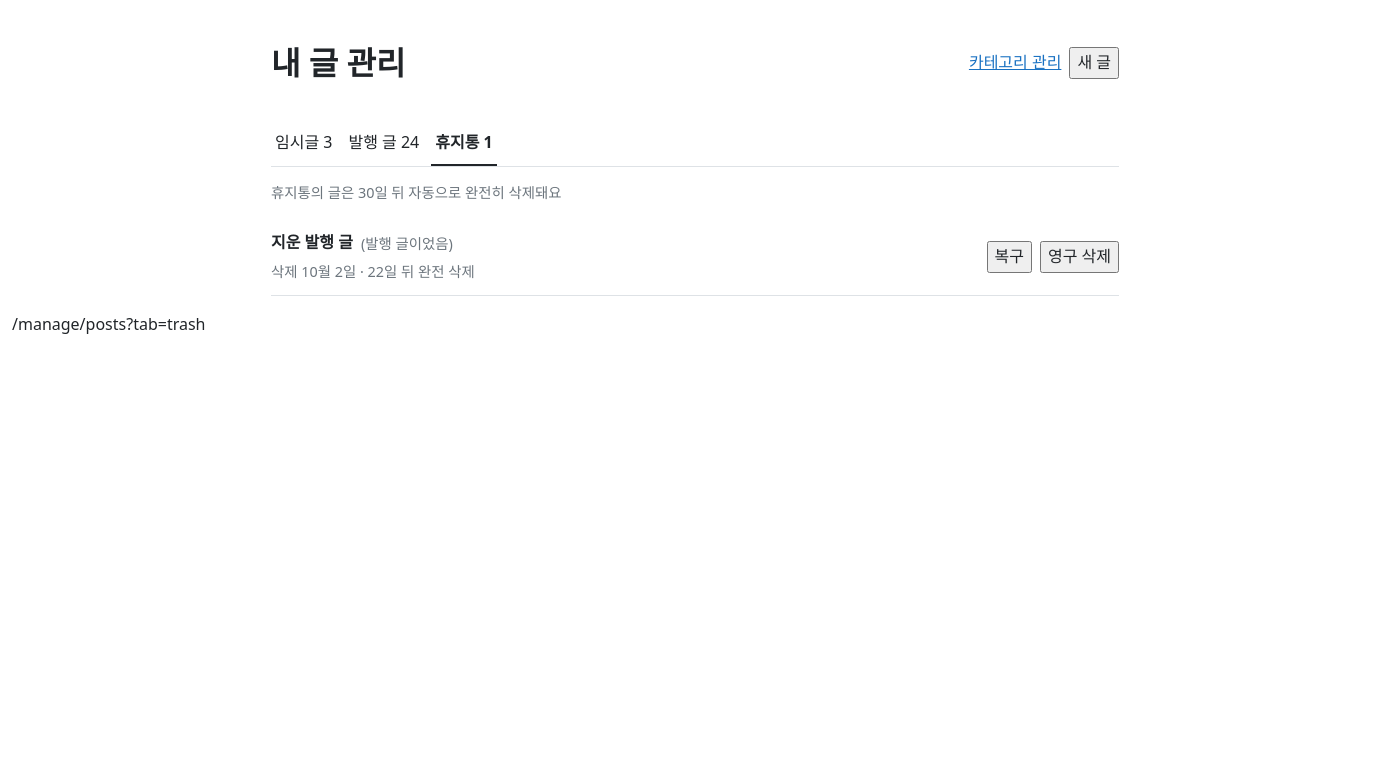
Scenario: ManagePostsPage › 휴지통 탭: 안내 문구, [복구]는 확인창 없이 "복구했어요 [발행 글 탭에서 보기]"
Expected: the text "지운 발행 글" is shown, 271,230 -> 353,256
Expected: the text "휴지통의 글은 30일 뒤 자동으로 완전히 삭제돼요" is shown, 271,183 -> 562,202
What coordinates should you click on to do the following:
click the button "복구"
I would click on:
 (1009, 257)
Its box is 986,241 -> 1032,273.
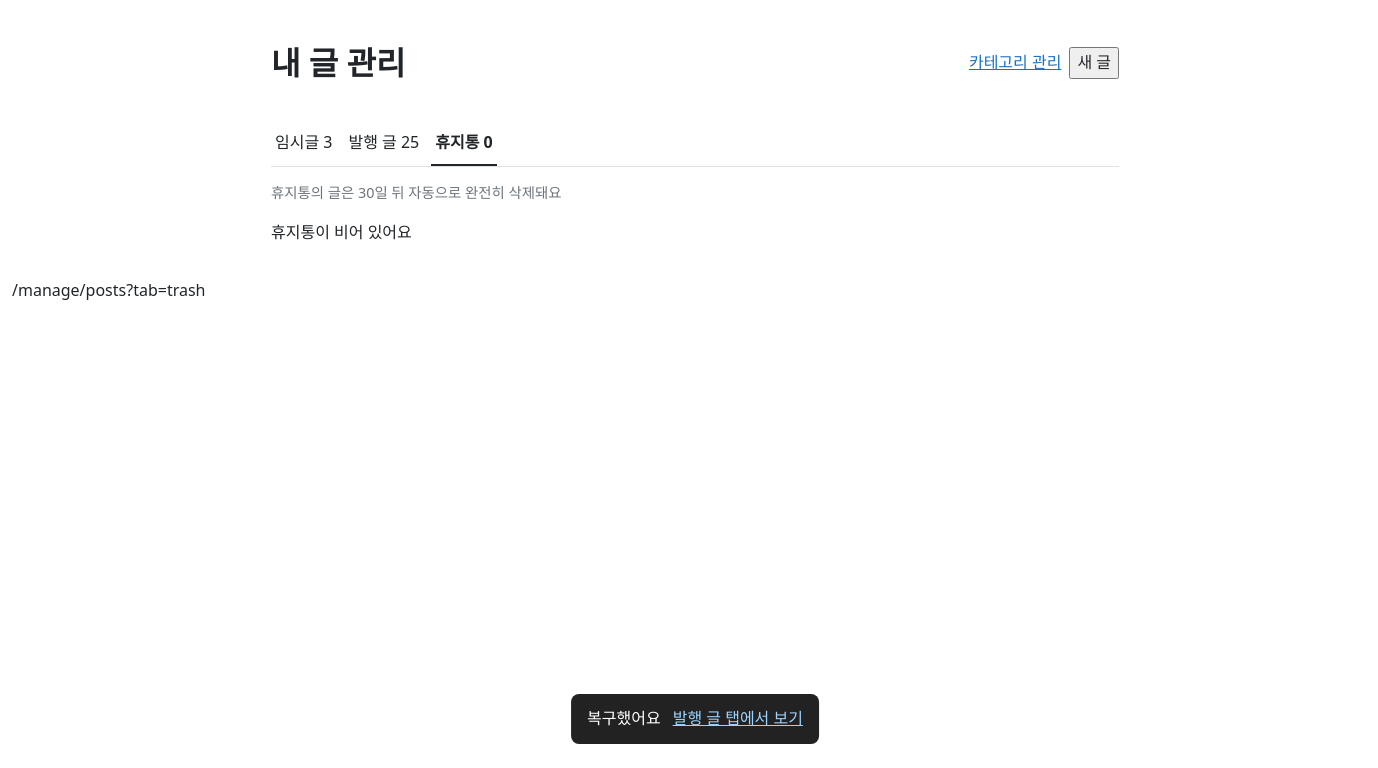
Now the message shows "복구했어요", box 587,707 -> 661,729
Now the text "지운 발행 글" is gone
Now the tab "휴지통 0" is shown, box 431,122 -> 497,166
